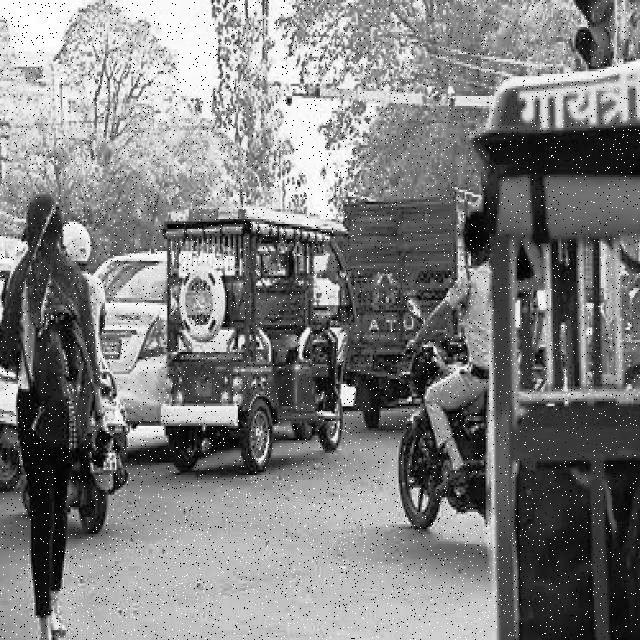Toto: (162, 202, 349, 475)
